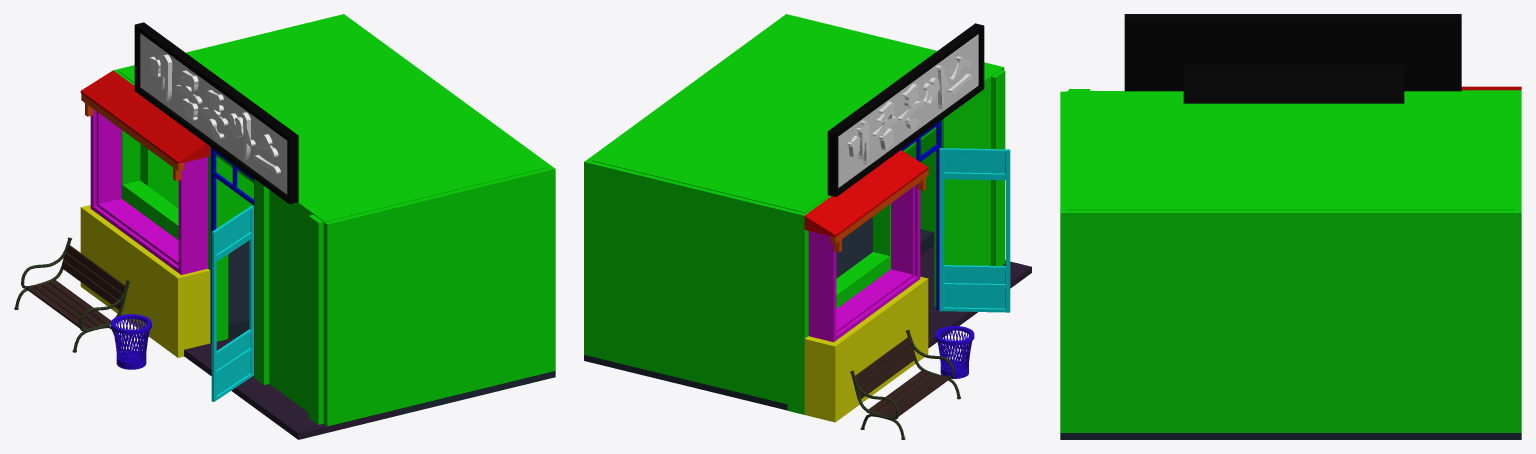
File: Building_6.fbx
3 renders of one model, left to right at view 1: azimuth 30°, elevation 25°; view 2: azimuth 150°, elevation 25°; view 3: azimuth 270°, elevation 25°, orthographic. The views are drawn at different scales.
Visible parts, largest first — view 1: polySurface990, polySurface916, typeMesh19; view 2: polySurface990, polySurface916, typeMesh19; view 3: polySurface990, polySurface916.
Part boxes in pixels (x1,y1,x2,y2): polySurface990: (14, 14, 555, 439); polySurface916: (134, 22, 298, 204); typeMesh19: (149, 54, 280, 174); polySurface990: (584, 14, 1031, 439); polySurface916: (827, 23, 984, 196); typeMesh19: (847, 56, 973, 164); polySurface990: (1060, 64, 1521, 439); polySurface916: (1124, 14, 1461, 91).
Bounding box in the file's own units: 171 × 137 × 189.
